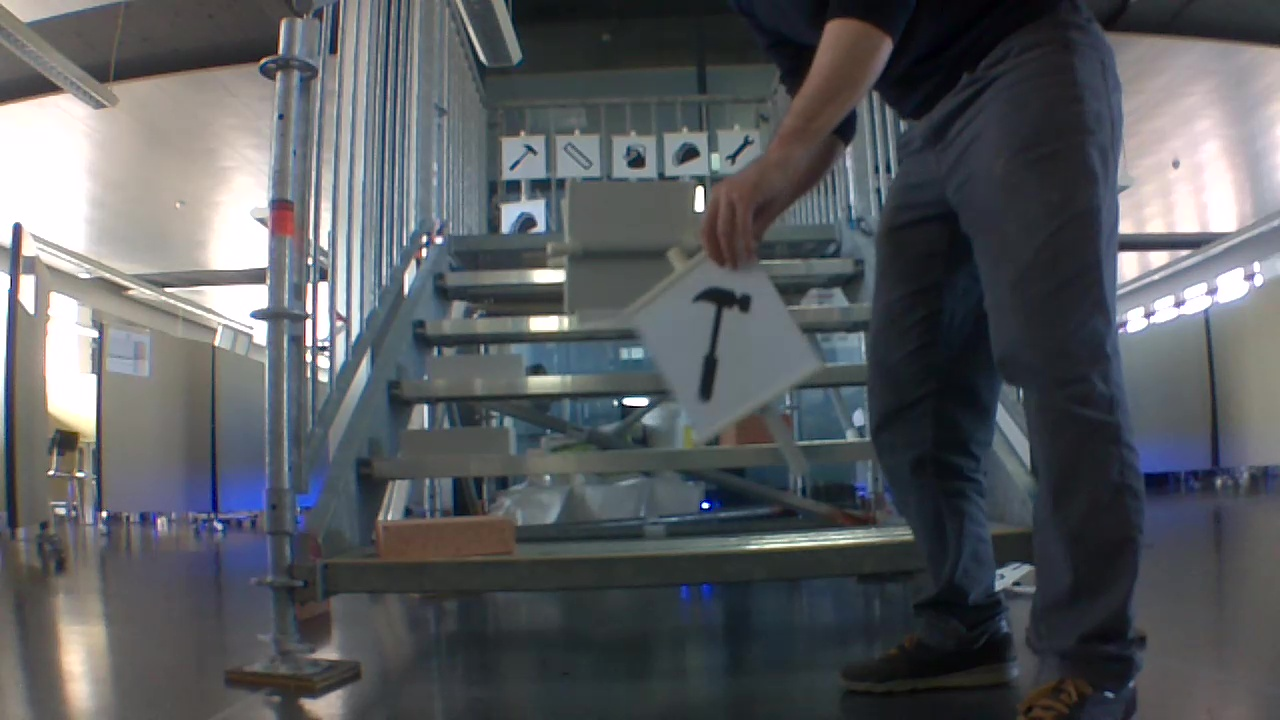brick: (368, 512, 517, 561), (390, 422, 519, 457), (422, 352, 522, 379)
bucket: (620, 142, 647, 175)
hammer: (681, 282, 752, 408), (505, 139, 540, 173)
ruler: (562, 142, 593, 172)
taco: (510, 208, 540, 235), (670, 142, 700, 169)
wrench: (725, 132, 756, 165)
